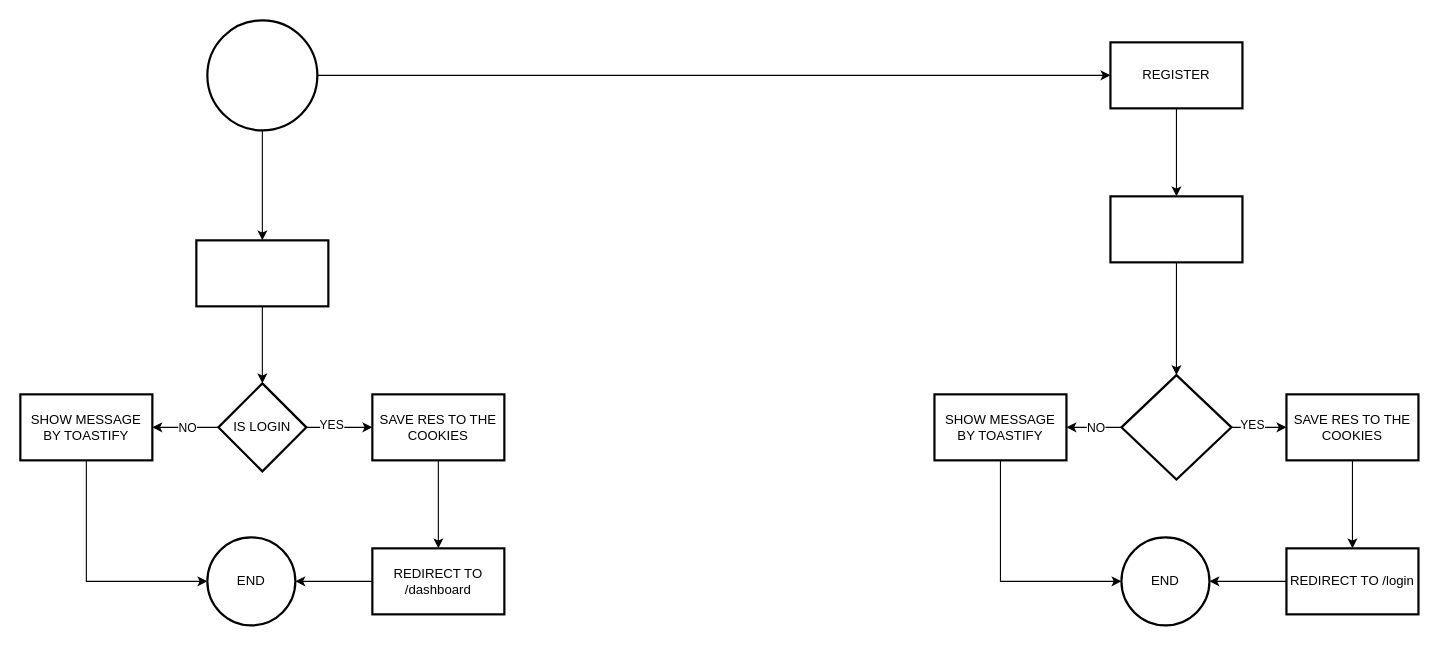
The diagram is 1438 pixels wide and 645 high, and some of its shapes have lost their labels. The box of each missing label's shape, as (x1, y1, x2, y2) in pixels:
AUTH - CMS: (206, 19, 318, 131)
IS REGISTER: (1120, 373, 1232, 480)
LOGIN - email, password: (195, 239, 329, 307)
REGISTER - fullName, email, password: (1109, 195, 1243, 263)
